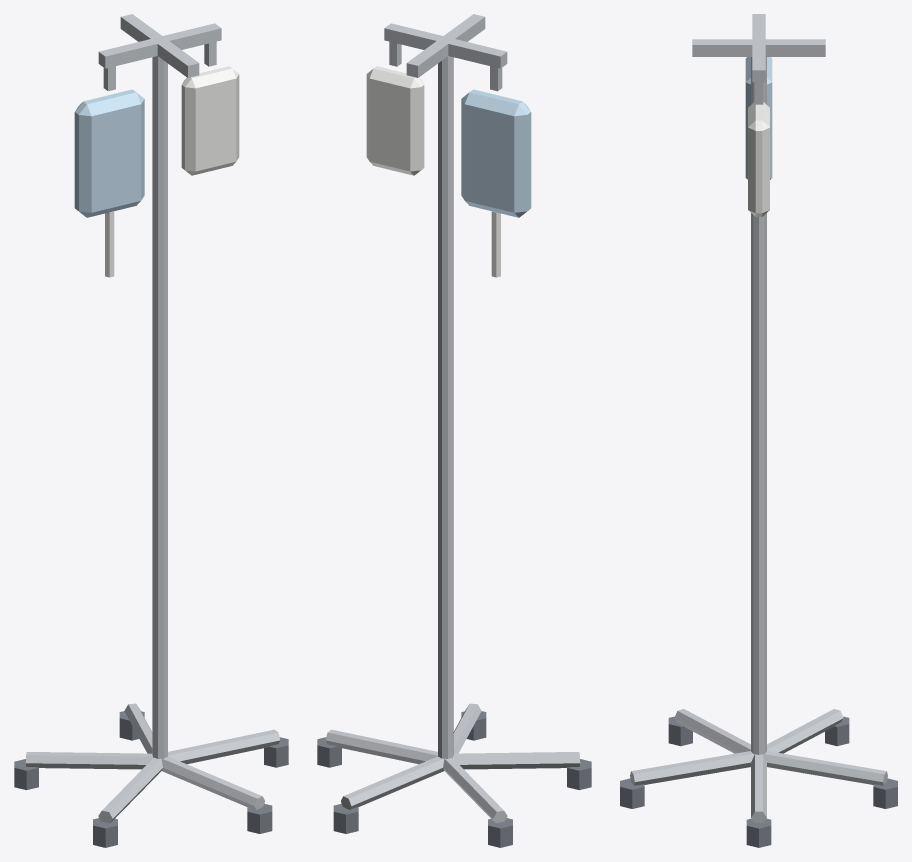
The picture shows the model from 3 angles, left to right: view 1: azimuth 30°, elevation 25°; view 2: azimuth 150°, elevation 25°; view 3: azimuth 270°, elevation 25°; orthographic projection.
Visible parts, largest first — view 1: iv-stand; view 2: iv-stand; view 3: iv-stand.
Part boxes in pixels (bbox=[...]): iv-stand: bbox=[14, 14, 288, 847]; iv-stand: bbox=[317, 14, 591, 847]; iv-stand: bbox=[620, 14, 897, 847].
Bounding box in the file's own units: 0.6067 × 1.85 × 0.6261.
